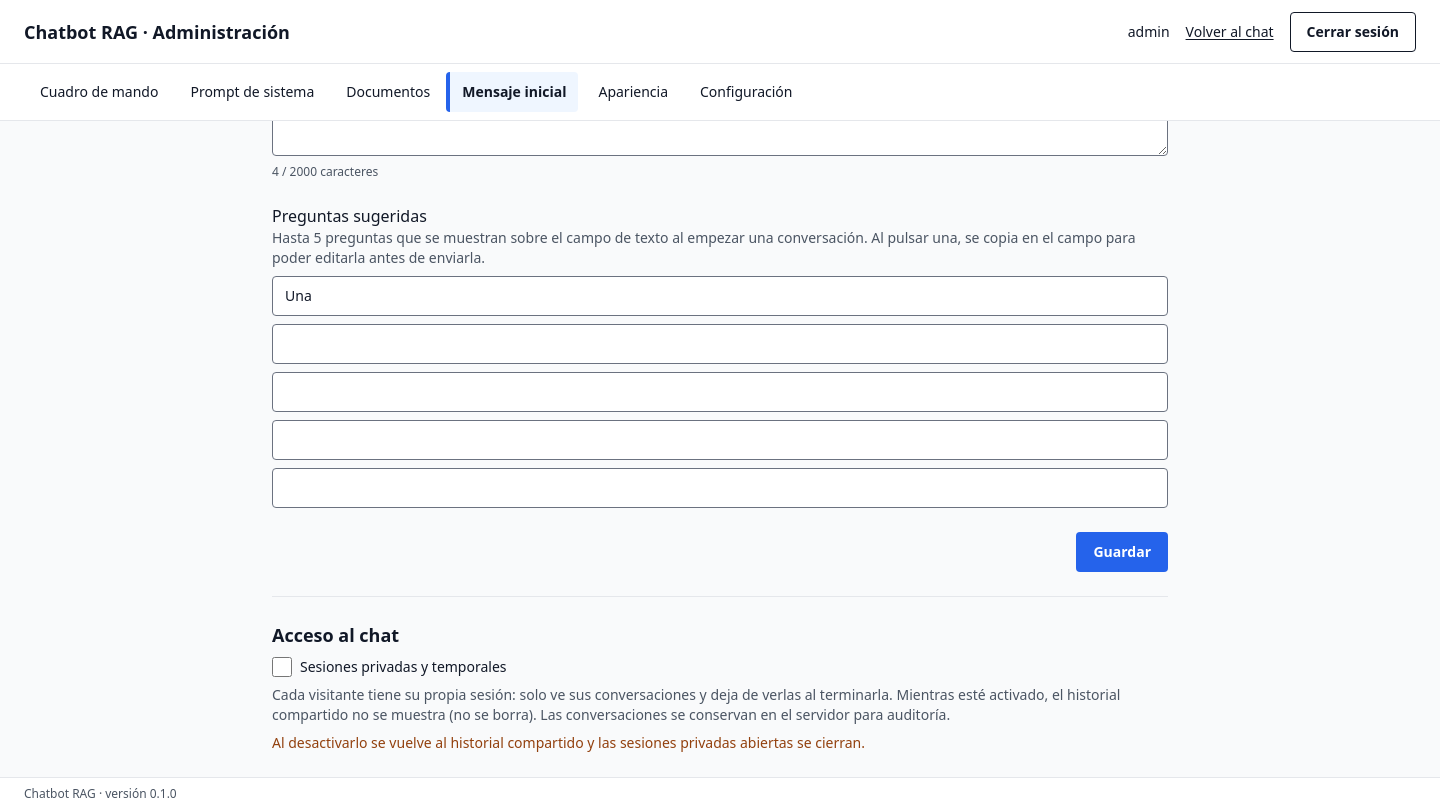
Test case: ChatStartPage › muestra los errores de carga y de guardado
(page scrolled)
Click the button "Guardar".
click(1122, 552)  # box [1076,532,1168,572]
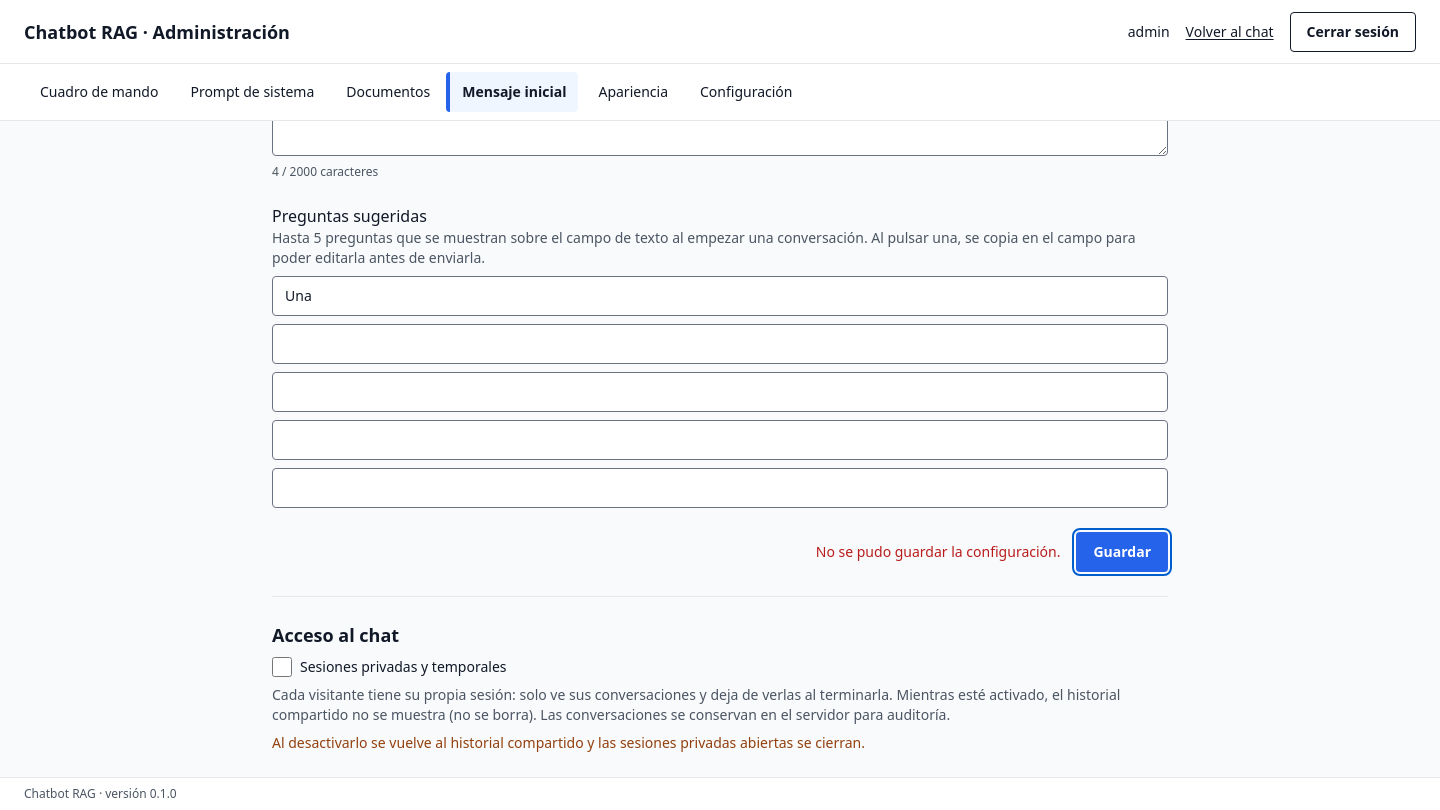
Expected: the message reads "No se pudo guardar la configuración.", [816,542,1060,561]
